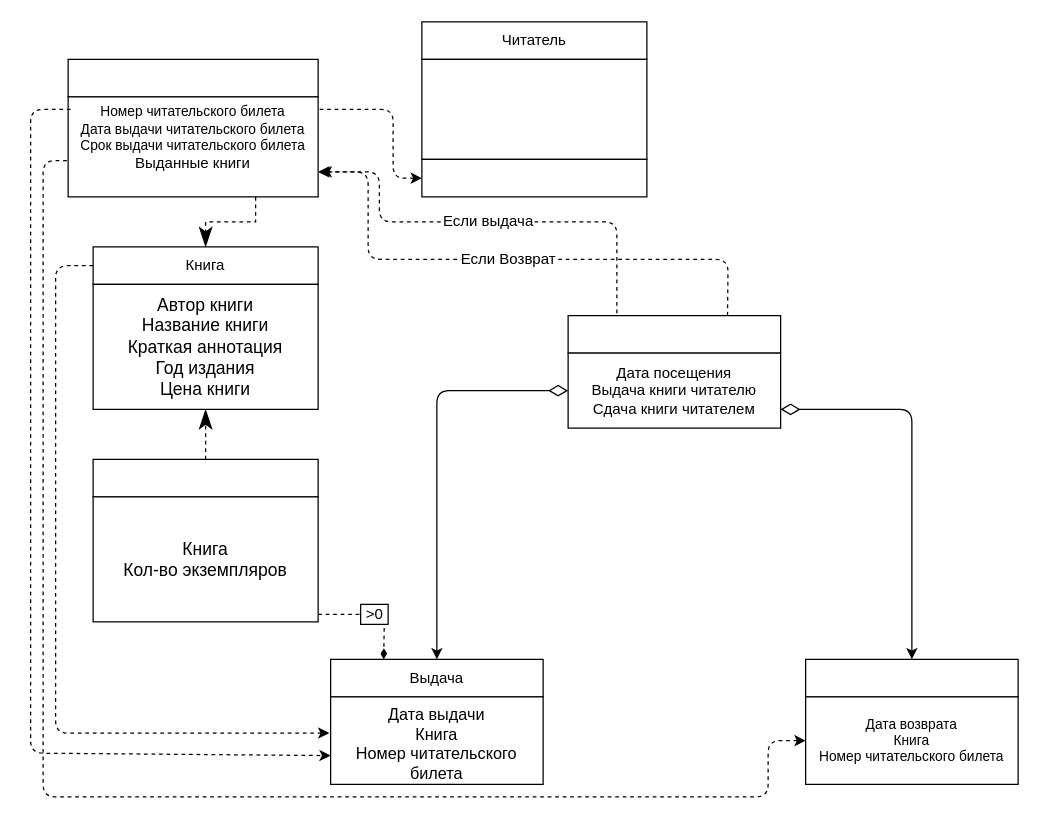
This 1040x829 diagram has some shape labels left out. Here are the shapes that lost their labels. From the top down, the centre of each, then its label:
the point at 192,77: Читательский билет
the point at 534,108: ФИО читателя Адрес читателя Телефон читателя Emale читателя
the point at 674,333: Посещение библиотеки
the point at 205,477: Библиотека
the point at 911,677: Возврат
